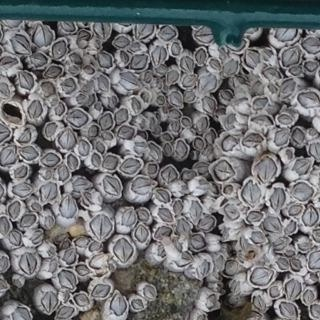Barnacle: (241, 181, 264, 222), (90, 213, 114, 241), (290, 181, 314, 204), (257, 157, 279, 182), (249, 266, 276, 286), (32, 23, 54, 47), (150, 44, 167, 74), (274, 23, 296, 46), (114, 237, 134, 262), (20, 252, 39, 277), (11, 32, 31, 55), (131, 176, 155, 195), (212, 160, 234, 180), (57, 127, 77, 149), (41, 290, 59, 313), (60, 195, 77, 219), (279, 78, 298, 99), (284, 278, 302, 300), (58, 269, 77, 289), (300, 89, 319, 109), (281, 48, 300, 68), (194, 24, 214, 43), (104, 176, 122, 197), (242, 48, 260, 69), (303, 202, 318, 227), (269, 187, 286, 209), (120, 157, 142, 174), (67, 109, 89, 126), (111, 293, 127, 316), (241, 136, 264, 152), (12, 181, 33, 198), (0, 144, 17, 165), (134, 22, 155, 39), (172, 251, 194, 267), (120, 71, 138, 90), (264, 213, 281, 233), (42, 181, 58, 202), (117, 125, 138, 141), (199, 74, 217, 92), (159, 24, 177, 42), (94, 20, 111, 39), (190, 199, 204, 222), (41, 151, 61, 167), (52, 40, 68, 60), (91, 283, 112, 298), (190, 232, 207, 250), (130, 53, 148, 70), (279, 303, 298, 319), (176, 217, 192, 236), (29, 98, 44, 118), (202, 93, 217, 113), (135, 222, 149, 243), (250, 114, 271, 128), (60, 78, 77, 95), (73, 176, 91, 192), (19, 71, 35, 89), (301, 37, 319, 53), (20, 145, 39, 160), (291, 125, 306, 144), (0, 55, 19, 70), (56, 305, 76, 319), (155, 188, 172, 204), (161, 166, 178, 182), (263, 68, 281, 83), (30, 53, 48, 68), (12, 306, 32, 319), (272, 130, 288, 146), (224, 260, 239, 277), (250, 231, 267, 246), (199, 215, 216, 230), (193, 160, 210, 175), (296, 160, 311, 177), (72, 292, 90, 306), (154, 225, 172, 239), (98, 112, 112, 130), (115, 107, 129, 125), (113, 34, 131, 48), (57, 164, 70, 183), (9, 200, 21, 220), (219, 135, 235, 150), (277, 111, 293, 126), (232, 76, 248, 91), (21, 213, 38, 227), (122, 208, 136, 225), (225, 204, 239, 221), (102, 155, 119, 169), (60, 18, 77, 32), (181, 53, 194, 71), (308, 250, 319, 271), (158, 207, 173, 222), (224, 60, 239, 75), (90, 255, 106, 269), (8, 230, 22, 246), (67, 153, 80, 170), (177, 141, 189, 159), (64, 248, 77, 264), (148, 144, 161, 160), (237, 97, 250, 113), (46, 65, 62, 78), (99, 52, 112, 68), (79, 139, 91, 156), (195, 48, 207, 65), (0, 215, 10, 235), (199, 259, 210, 277), (0, 81, 11, 99), (98, 73, 109, 91), (290, 258, 304, 272), (273, 236, 287, 250), (255, 97, 269, 111), (42, 81, 56, 95), (183, 74, 197, 88), (14, 163, 27, 178), (19, 129, 32, 144), (204, 127, 217, 142), (196, 115, 209, 130), (169, 91, 182, 106), (230, 278, 242, 294), (134, 138, 146, 154), (226, 113, 238, 129), (167, 69, 179, 85), (253, 294, 266, 308), (77, 263, 91, 276), (136, 208, 150, 221), (82, 192, 95, 206), (45, 122, 58, 136), (185, 90, 198, 104), (77, 30, 91, 43), (286, 203, 301, 215), (182, 169, 197, 181), (308, 142, 319, 158), (107, 95, 118, 111), (154, 243, 167, 256), (30, 230, 43, 243), (303, 290, 315, 304), (144, 285, 156, 299), (129, 97, 141, 111), (70, 53, 84, 65), (206, 293, 217, 308), (172, 236, 183, 251), (286, 219, 297, 234), (80, 80, 95, 91), (92, 153, 102, 169), (276, 257, 289, 269), (197, 178, 210, 190), (216, 107, 229, 119), (305, 59, 318, 71), (244, 311, 263, 319), (309, 304, 319, 319), (76, 236, 91, 246), (173, 200, 183, 215), (194, 138, 206, 150), (169, 109, 182, 120), (129, 42, 142, 53), (88, 125, 98, 139), (0, 256, 8, 273), (45, 214, 54, 229), (132, 299, 144, 310), (211, 59, 222, 71), (219, 89, 232, 99), (262, 46, 272, 59), (90, 241, 101, 252), (299, 239, 310, 250), (147, 163, 158, 174), (75, 93, 86, 104), (84, 65, 95, 76), (57, 232, 67, 244), (48, 259, 57, 272), (215, 255, 224, 268), (56, 102, 65, 115), (120, 50, 129, 63), (87, 93, 95, 107), (179, 184, 189, 195), (95, 141, 105, 152), (308, 124, 319, 134), (181, 116, 192, 126), (171, 42, 181, 53), (141, 90, 150, 102), (285, 148, 294, 159), (290, 66, 301, 75), (68, 65, 79, 74), (149, 116, 156, 130), (62, 290, 70, 302), (101, 132, 113, 140), (165, 144, 172, 157), (32, 202, 42, 211), (42, 171, 52, 180), (172, 122, 181, 132), (145, 71, 152, 83), (50, 96, 59, 105), (47, 246, 55, 256), (155, 78, 163, 88), (95, 39, 102, 50), (157, 95, 165, 104), (95, 102, 102, 112)
